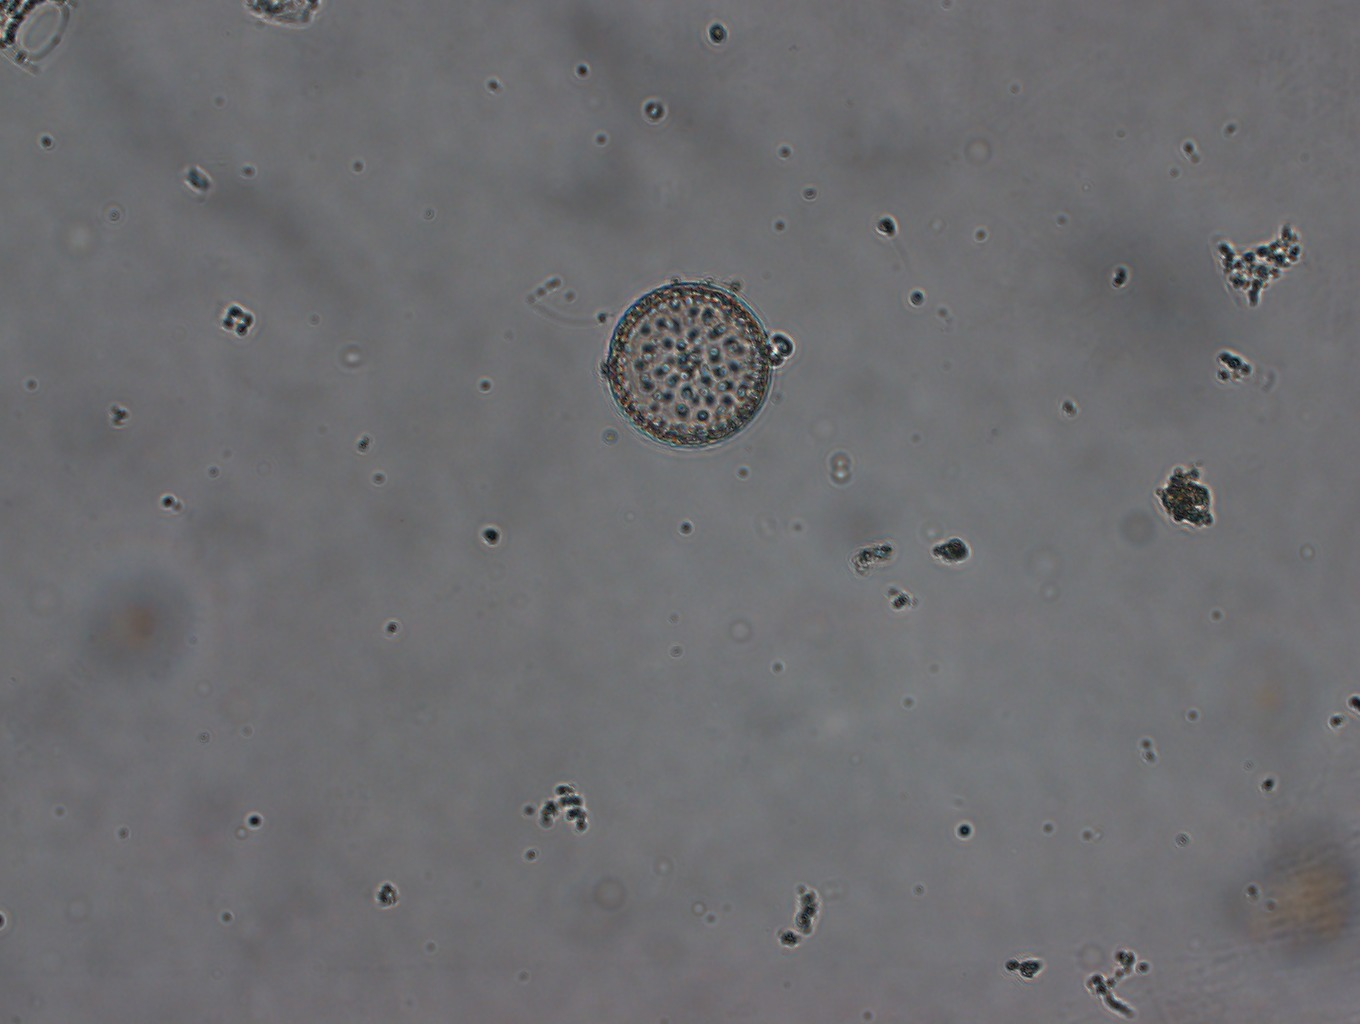coscinodiscus: (605, 280, 773, 450)
